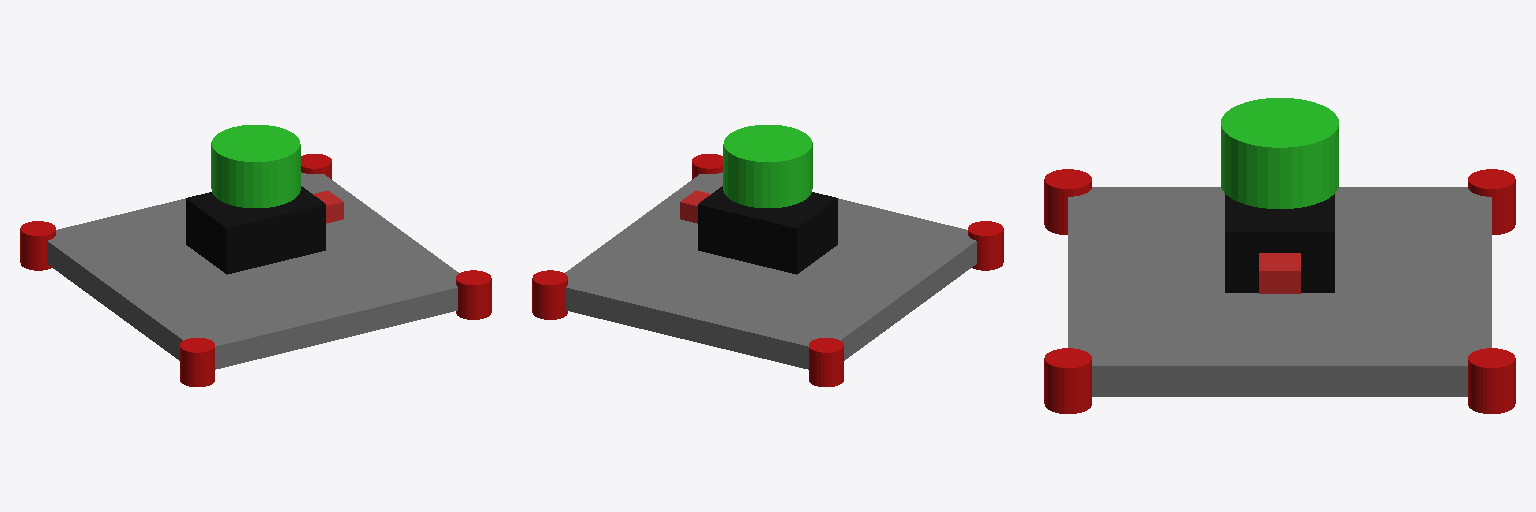
The robot description file, URDF, robot "shadow_drone":
<?xml version="1.0" ?>
<!-- =================================================================================== -->
<!-- |    This document was autogenerated by xacro from shadow_drone.xacro             | -->
<!-- |    EDITING THIS FILE BY HAND IS NOT RECOMMENDED                                 | -->
<!-- =================================================================================== -->
<robot name="shadow_drone">
  <!-- Base Link -->
  <link name="base_link">
    <visual>
      <geometry>
        <box size="0.25 0.25 0.02"/>
      </geometry>
      <material name="gray">
        <color rgba="0.5 0.5 0.5 1.0"/>
      </material>
    </visual>
    <collision>
      <geometry>
        <box size="0.25 0.25 0.02"/>
      </geometry>
    </collision>
    <inertial>
      <mass value="0.15"/>
      <origin rpy="0 0 0" xyz="0 0 0"/>
      <inertia ixx="0.01" ixy="0.0" ixz="0.0" iyy="0.01" iyz="0.0" izz="0.01"/>
    </inertial>
  </link>
  <!-- Battery -->
  <link name="battery_link">
    <visual>
      <geometry>
        <box size="0.07 0.035 0.025"/>
      </geometry>
      <material name="blue">
        <color rgba="0.2 0.2 0.8 1.0"/>
      </material>
    </visual>
  </link>
  <joint name="battery_joint" type="fixed">
    <parent link="base_link"/>
    <child link="battery_link"/>
    <origin rpy="0 0 0" xyz="0 0 -0.04"/>
  </joint>
  <!-- Pi + Navio Stack -->
  <link name="stack_link">
    <visual>
      <geometry>
        <box size="0.09 0.065 0.04"/>
      </geometry>
      <material name="black">
        <color rgba="0.1 0.1 0.1 1.0"/>
      </material>
    </visual>
  </link>
  <joint name="stack_joint" type="fixed">
    <parent link="base_link"/>
    <child link="stack_link"/>
    <origin rpy="0 0 0" xyz="0 0 0.04"/>
  </joint>
  <!-- LiDAR -->
  <link name="lidar_link">
    <visual>
      <geometry>
        <cylinder length="0.04" radius="0.035"/>
      </geometry>
      <material name="green">
        <color rgba="0.2 0.8 0.2 1.0"/>
      </material>
    </visual>
  </link>
  <joint name="lidar_joint" type="fixed">
    <parent link="stack_link"/>
    <child link="lidar_link"/>
    <origin rpy="0 0 0" xyz="0 0 0.05"/>
  </joint>
  <gazebo reference="lidar_link">
    <sensor name="lidar_sensor" type="ray">
      <always_on>true</always_on>
      <visualize>false</visualize>
      <update_rate>10</update_rate>
      <ray>
        <scan>
          <horizontal>
            <samples>360</samples>
            <resolution>1</resolution>
            <min_angle>-3.14159</min_angle>
            <max_angle>3.14159</max_angle>
          </horizontal>
        </scan>
        <range>
          <min>0.05</min>
          <max>10.0</max>
          <resolution>0.01</resolution>
        </range>
      </ray>
      <plugin filename="libgazebo_ros_ray_sensor.so" name="gazebo_ros_ray_sensor">
        <ros>
          <remapping>~/out:=/scan</remapping>
        </ros>
        <output_type>sensor_msgs/LaserScan</output_type>
        <frame_name>lidar_link</frame_name>
      </plugin>
    </sensor>
  </gazebo>
  <!-- Camera -->
  <link name="camera_link">
    <visual>
      <geometry>
        <box size="0.025 0.025 0.015"/>
      </geometry>
      <material name="red">
        <color rgba="0.8 0.2 0.2 1.0"/>
      </material>
    </visual>
  </link>
  <joint name="camera_joint" type="fixed">
    <parent link="stack_link"/>
    <child link="camera_link"/>
    <origin rpy="0 0 0" xyz="0.06 0 0.0"/>
  </joint>
  <gazebo reference="camera_link">
    <sensor name="camera_sensor" type="camera">
      <always_on>true</always_on>
      <update_rate>30.0</update_rate>
      <camera>
        <horizontal_fov>1.047</horizontal_fov>
        <image>
          <width>640</width>
          <height>480</height>
          <format>R8G8B8</format>
        </image>
        <clip>
          <near>0.1</near>
          <far>100.0</far>
        </clip>
      </camera>
      <plugin filename="libgazebo_ros_camera.so" name="gazebo_ros_camera">
        <frame_name>camera_link</frame_name>
      </plugin>
    </sensor>
  </gazebo>
  <!-- Motors -->
  <link name="motor_front_left">
    <visual>
      <geometry>
        <cylinder length="0.03" radius="0.014"/>
      </geometry>
      <material name="motor_red">
        <color rgba="0.8 0.1 0.1 1.0"/>
      </material>
    </visual>
  </link>
  <joint name="motor_front_left_joint" type="fixed">
    <parent link="base_link"/>
    <child link="motor_front_left"/>
    <origin rpy="0 0 0" xyz="-0.125 0.125 0.0"/>
  </joint>
  <link name="motor_front_right">
    <visual>
      <geometry>
        <cylinder length="0.03" radius="0.014"/>
      </geometry>
      <material name="motor_red"/>
    </visual>
  </link>
  <joint name="motor_front_right_joint" type="fixed">
    <parent link="base_link"/>
    <child link="motor_front_right"/>
    <origin rpy="0 0 0" xyz="0.125 0.125 0.0"/>
  </joint>
  <link name="motor_rear_left">
    <visual>
      <geometry>
        <cylinder length="0.03" radius="0.014"/>
      </geometry>
      <material name="motor_red"/>
    </visual>
  </link>
  <joint name="motor_rear_left_joint" type="fixed">
    <parent link="base_link"/>
    <child link="motor_rear_left"/>
    <origin rpy="0 0 0" xyz="-0.125 -0.125 0.0"/>
  </joint>
  <link name="motor_rear_right">
    <visual>
      <geometry>
        <cylinder length="0.03" radius="0.014"/>
      </geometry>
      <material name="motor_red"/>
    </visual>
  </link>
  <joint name="motor_rear_right_joint" type="fixed">
    <parent link="base_link"/>
    <child link="motor_rear_right"/>
    <origin rpy="0 0 0" xyz="0.125 -0.125 0.0"/>
  </joint>
</robot>

--- What the picture shows (computed from the rendered views, not written in the file) ---
Views: 3 orthographic renders of the robot side by side, from view 1: azimuth 30°, elevation 25°; view 2: azimuth 150°, elevation 25°; view 3: azimuth 270°, elevation 25°.
Model shadow_drone with 9 links and 8 joints (8 fixed), rooted at base_link, posed every joint at zero.
Visible links, largest first — view 1: base_link, stack_link, lidar_link, motor_rear_left, motor_rear_right, motor_front_left, motor_front_right, camera_link; view 2: base_link, stack_link, lidar_link, motor_front_left, motor_front_right, motor_rear_left, motor_rear_right, camera_link; view 3: base_link, lidar_link, stack_link, motor_front_right, motor_rear_right, motor_front_left, motor_rear_left, camera_link.
Boxes of the visible links, x1,y1,x2,y2 form: base_link: (47, 172, 458, 369); stack_link: (186, 186, 325, 274); lidar_link: (211, 125, 300, 207); motor_rear_left: (180, 338, 214, 386); motor_rear_right: (456, 270, 491, 319); motor_front_left: (20, 221, 55, 270); motor_front_right: (301, 154, 331, 179); camera_link: (313, 190, 343, 223); base_link: (565, 172, 976, 369); stack_link: (698, 186, 837, 274); lidar_link: (723, 125, 812, 207); motor_front_left: (809, 338, 843, 386); motor_front_right: (532, 270, 567, 319); motor_rear_left: (968, 221, 1003, 270); motor_rear_right: (692, 154, 722, 179); camera_link: (680, 190, 710, 223); base_link: (1068, 187, 1491, 396); lidar_link: (1221, 98, 1338, 208); stack_link: (1225, 194, 1334, 292); motor_front_right: (1468, 348, 1515, 413); motor_rear_right: (1044, 348, 1091, 413); motor_front_left: (1468, 169, 1515, 234); motor_rear_left: (1044, 169, 1091, 234); camera_link: (1259, 253, 1300, 293).
Size in the robot's own frame: 0.278 by 0.278 by 0.1625 metres.
Geometry: primitives only (box / cylinder / sphere), no mesh files.
